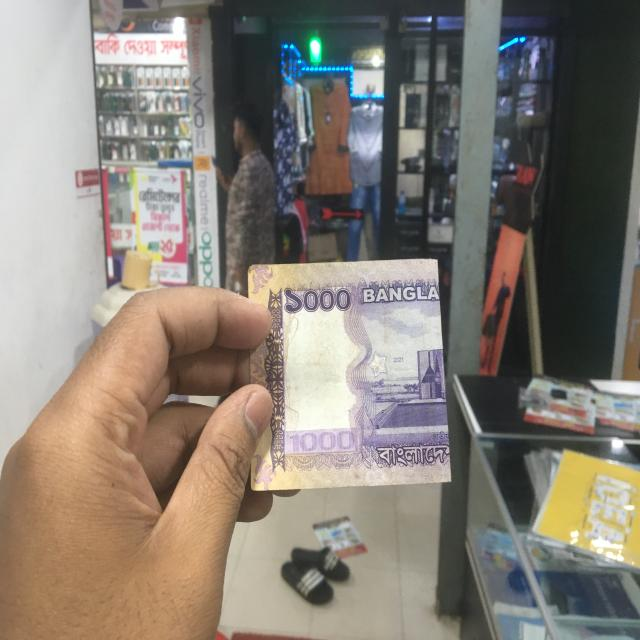Taka: (251, 262, 448, 488)
